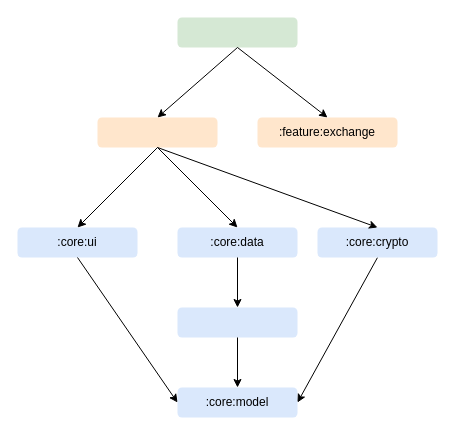
Some shapes in this 454 by 434 pixel diagram are drawn without their labels. The centre of each missing label's shape, as x and y in pixels:
":app" goes at point (237, 32).
":core:database" goes at point (237, 322).
":feature:keys" goes at point (157, 132).
